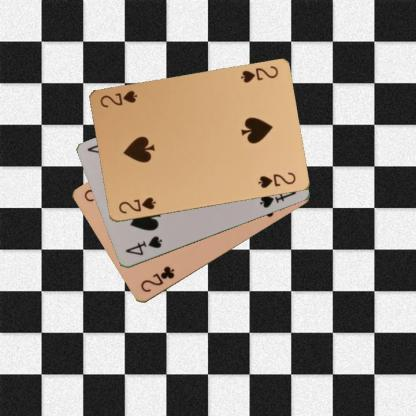2c: (138, 264, 176, 294)
2s: (116, 194, 157, 216), (238, 63, 279, 85)
4s: (122, 234, 164, 257)
